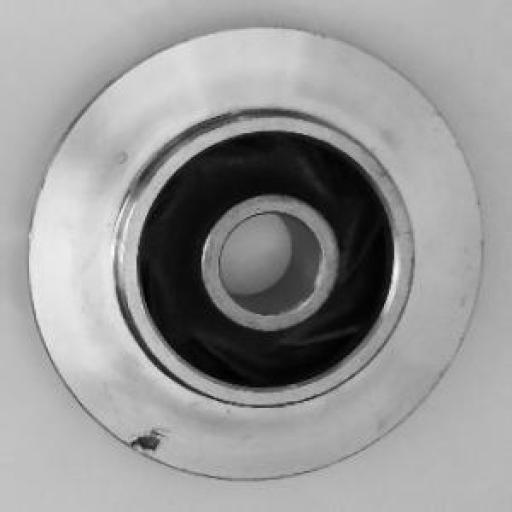defect: (94, 388, 192, 488)
